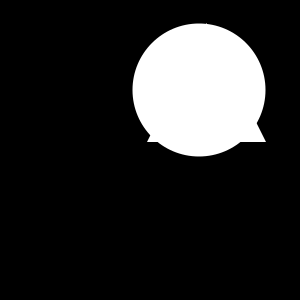rectangle: (132, 23, 266, 157)
triangle: (147, 23, 266, 142)
